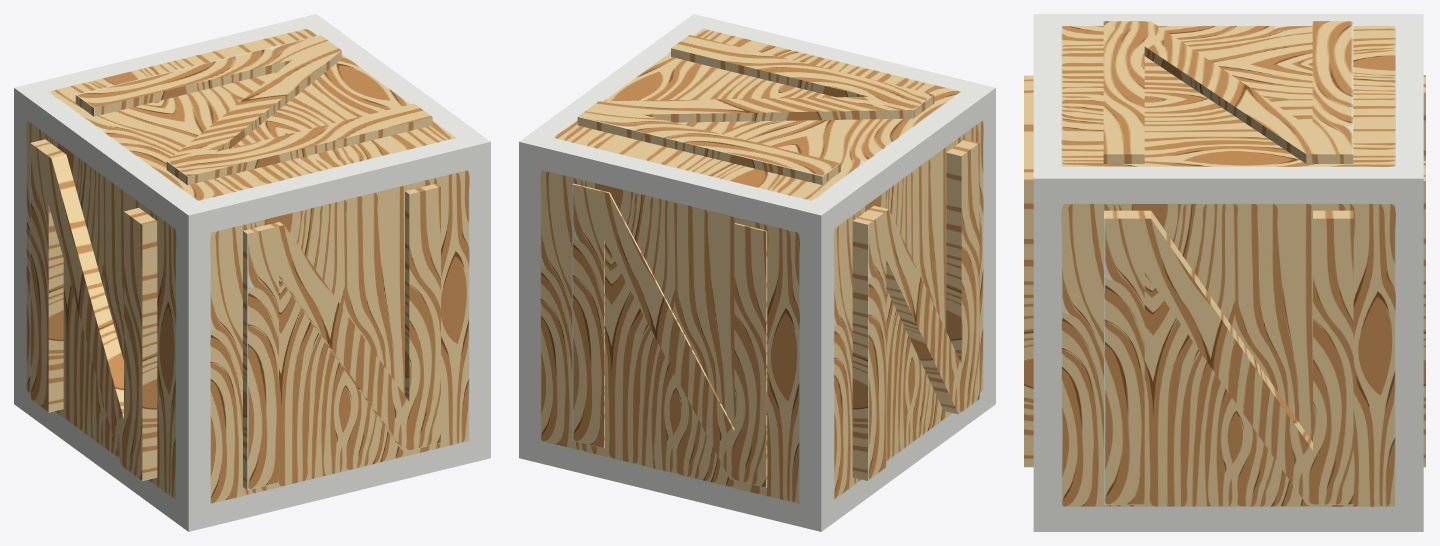
File: Block N.fbx
3 renders of one model, left to right at view 1: azimuth 30°, elevation 25°; view 2: azimuth 150°, elevation 25°; view 3: azimuth 270°, elevation 25°, orthographic. The views are drawn at different scales.
Parts seen in each view (by area): view 1: Box, FRONT, LEFT, TOP; view 2: Box, BACK, LEFT, TOP; view 3: Box, RIGHT, TOP, FRONT, BACK.
Part boxes in pixels (box(x1,y1,x2,y2)): Box: box(14, 14, 490, 531); FRONT: box(243, 183, 440, 490); LEFT: box(30, 139, 157, 481); TOP: box(75, 35, 432, 185); Box: box(519, 14, 995, 531); BACK: box(572, 183, 767, 487); LEFT: box(852, 139, 979, 480); TOP: box(577, 35, 934, 184); Box: box(1033, 14, 1423, 531); RIGHT: box(1104, 210, 1353, 504); TOP: box(1103, 21, 1353, 163); FRONT: box(1024, 75, 1033, 467); BACK: box(1423, 75, 1425, 467).
Bounding box in the file's own units: 1.1 × 1.04 × 1.03.
Materials: 2 (2 with a texture image).
